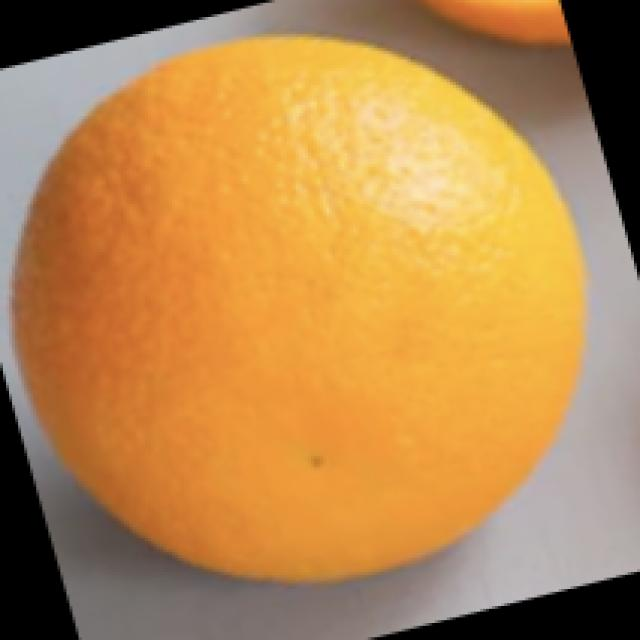matang: (15, 43, 593, 579)
